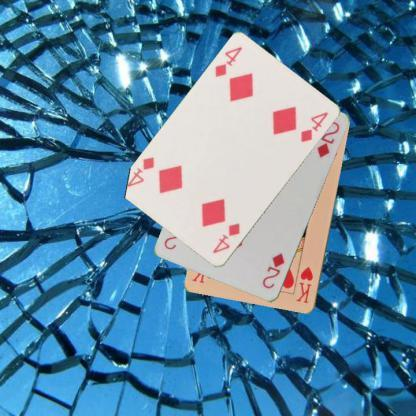2d: (259, 250, 286, 290)
4d: (212, 44, 244, 80), (210, 221, 242, 255)
Kh: (293, 264, 315, 304)
